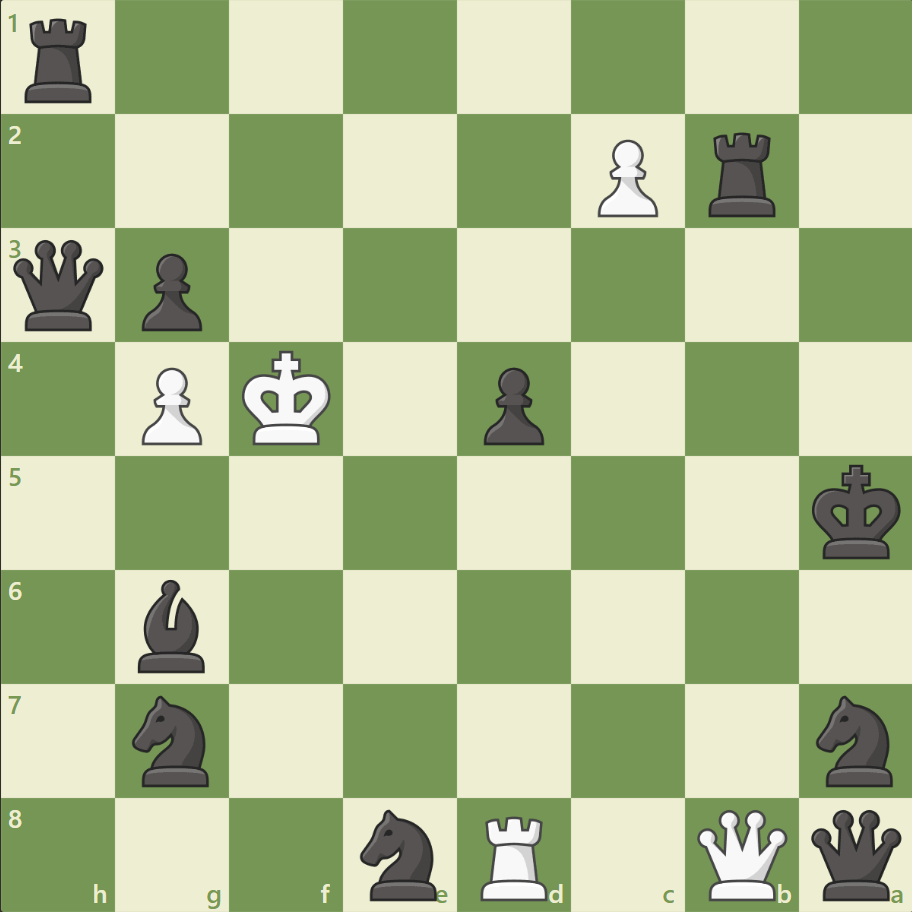K: (238, 344, 338, 452)
P: (133, 359, 208, 450), (588, 132, 662, 223)
Q: (691, 804, 790, 903)
R: (473, 806, 556, 904)
b: (131, 574, 215, 676)
k: (806, 458, 906, 566)
n: (124, 688, 222, 791), (351, 802, 449, 904), (806, 688, 903, 791)
p: (474, 359, 549, 450), (133, 246, 208, 337)
q: (805, 804, 904, 903), (10, 236, 109, 335)
r: (700, 125, 783, 222), (19, 12, 102, 109)
